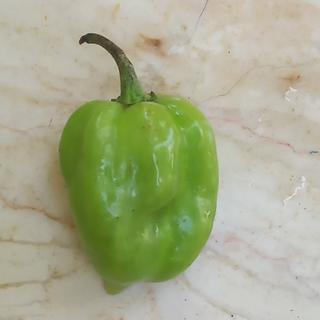Grade-A: (57, 91, 224, 303)
